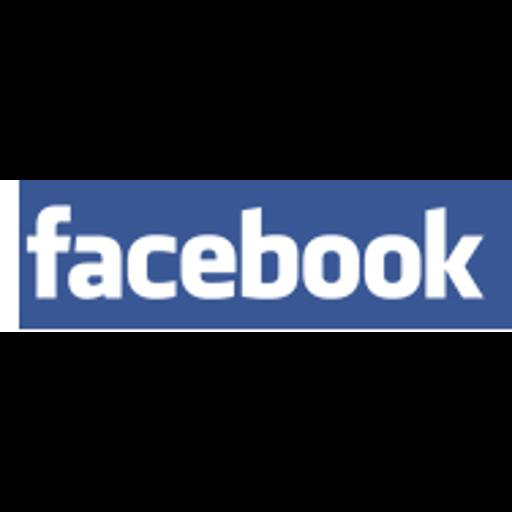Facebook: (0, 180, 512, 332)
